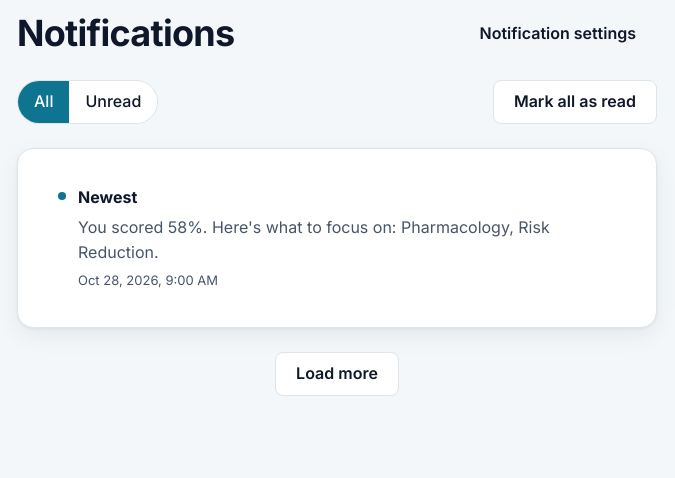
NotificationsHistory › loads more pages on request
Expected: the text "Newest" is shown, [78,187,140,207]
Step 1. Click the button "Load more" → coordinates (337, 374), box [275,352,399,396]
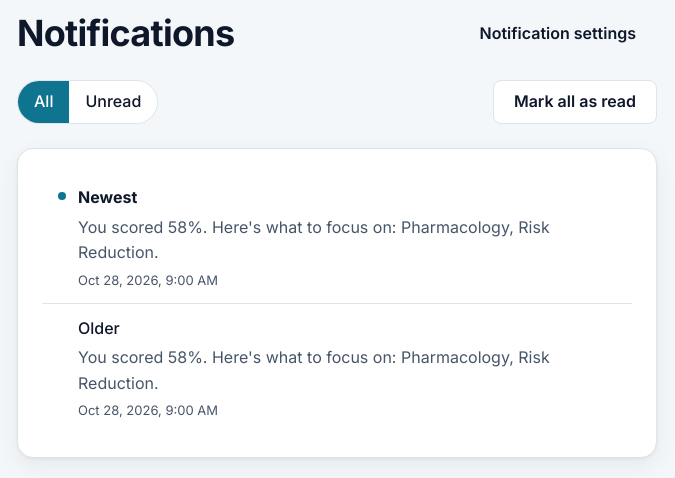
Expected: the text "Older" is shown, [78,318,120,338]
Expected: the button "Load more" is gone
